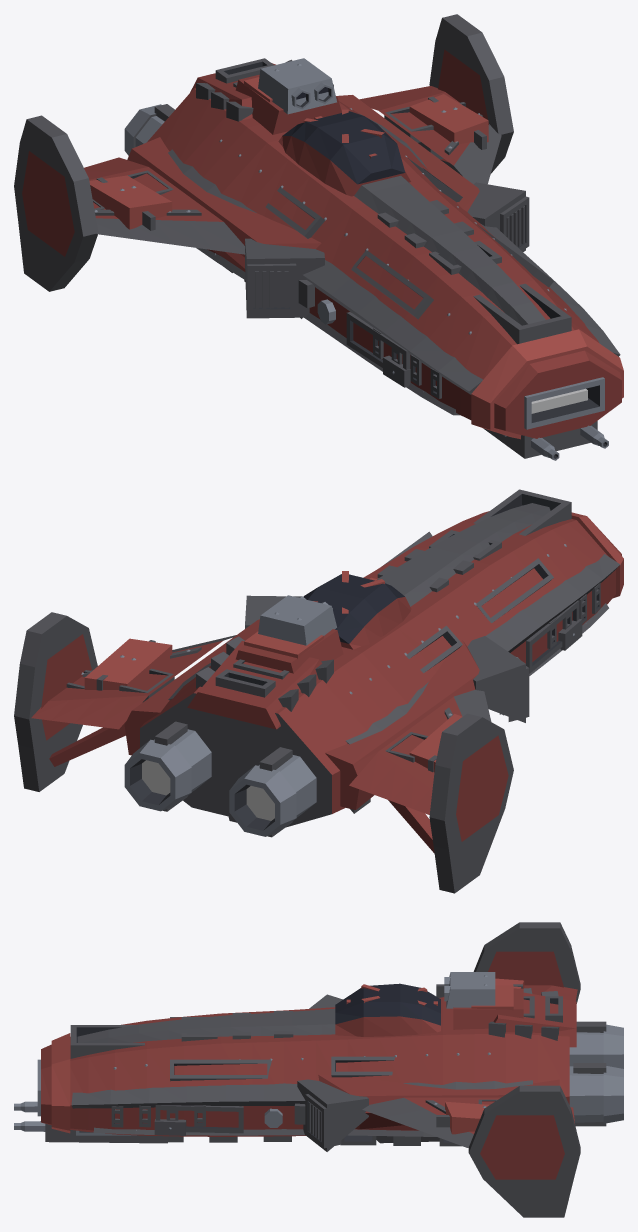
File: interceptor-9d2289.glb
The picture shows the model from 3 angles, top to bottom: view 1: azimuth 30°, elevation 25°; view 2: azimuth 150°, elevation 25°; view 3: azimuth 270°, elevation 25°; orthographic projection. The views are drawn at different scales.
Visible parts, largest first — view 1: hull, wing-r-mesh, wing-l-mesh, nozzle-mesh; view 2: hull, wing-r-mesh, wing-l-mesh, nozzle-mesh; view 3: hull, wing-l-mesh, wing-r-mesh, nozzle-mesh.
Part boxes in pixels (x1=…): hull: x1=127, y1=58, x2=623, y2=460; wing-r-mesh: x1=14, y1=115, x2=245, y2=291; wing-l-mesh: x1=359, y1=14, x2=513, y2=184; nozzle-mesh: x1=124, y1=104, x2=174, y2=155; hull: x1=124, y1=489, x2=623, y2=827; wing-r-mesh: x1=349, y1=689, x2=513, y2=893; wing-l-mesh: x1=14, y1=612, x2=236, y2=791; nozzle-mesh: x1=124, y1=721, x2=316, y2=837; hull: x1=14, y1=972, x2=576, y2=1151; wing-l-mesh: x1=362, y1=1085, x2=580, y2=1217; wing-r-mesh: x1=436, y1=922, x2=580, y2=1003; nozzle-mesh: x1=569, y1=1021, x2=623, y2=1126.
Size of the model in its own units: 5.96 by 2.5 by 9.
